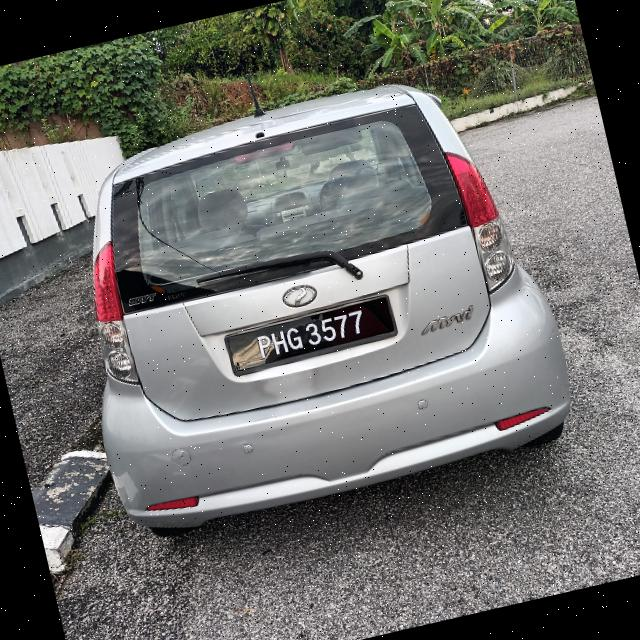License_Plate: (230, 300, 393, 380)
